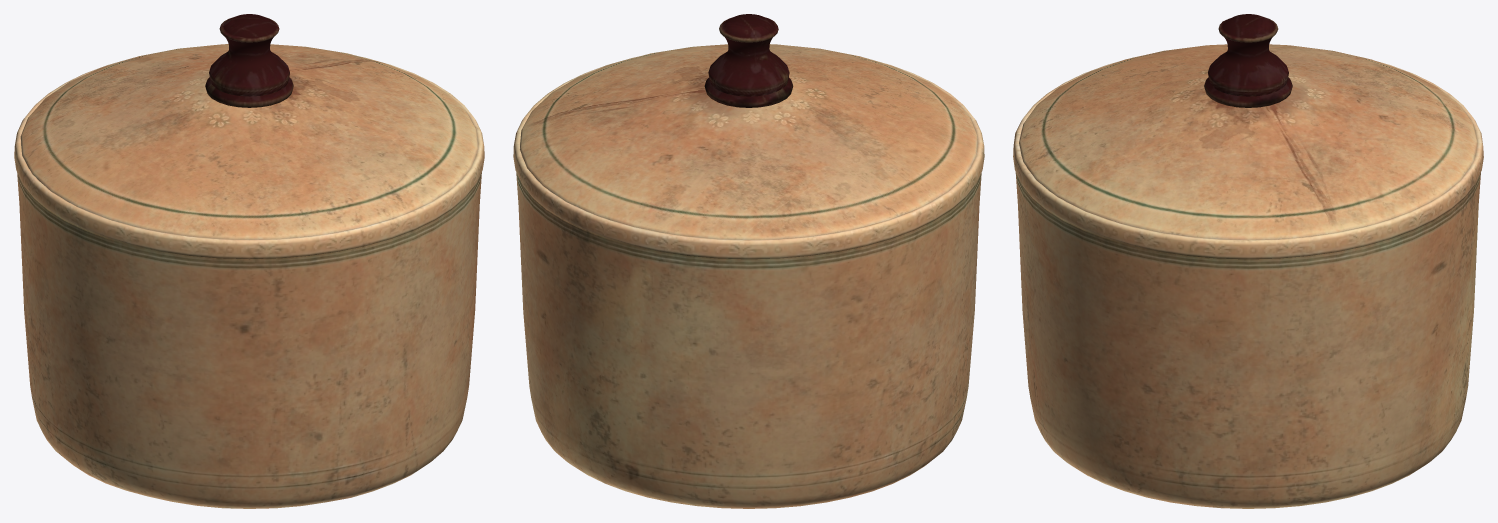
File: ph_brass_pot_01.glb
The picture shows the model from 3 angles, left to right: view 1: azimuth 30°, elevation 25°; view 2: azimuth 150°, elevation 25°; view 3: azimuth 270°, elevation 25°; orthographic projection.
Parts seen in each view (by area): view 1: ph_brass_pot_01; view 2: ph_brass_pot_01; view 3: ph_brass_pot_01.
Part boxes in pixels (x1,y1,x2,y2): ph_brass_pot_01: (14,14,484,508); ph_brass_pot_01: (513,14,984,508); ph_brass_pot_01: (1013,14,1483,508).
Size of the model in its own units: 0.3019 by 0.2909 by 0.3017.
Materials: 1 (1 with a texture image).
